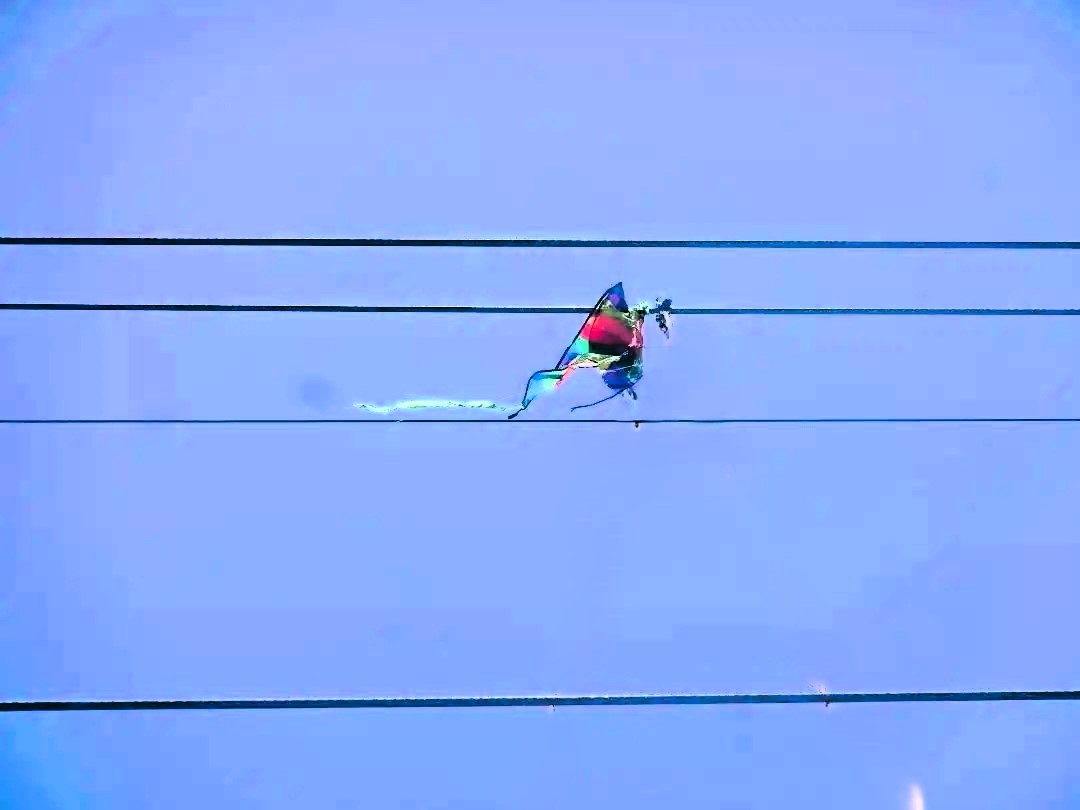wire foreign body: (483, 275, 681, 421)
